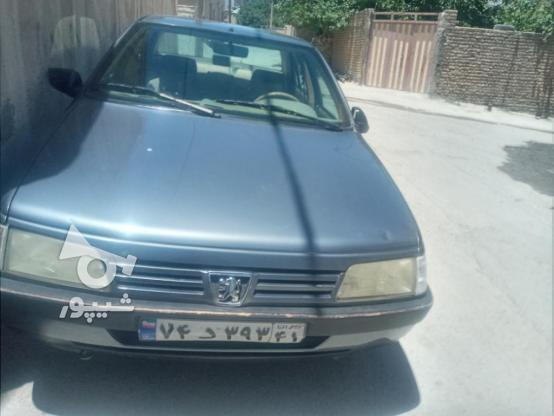car: (135, 317, 307, 350)
